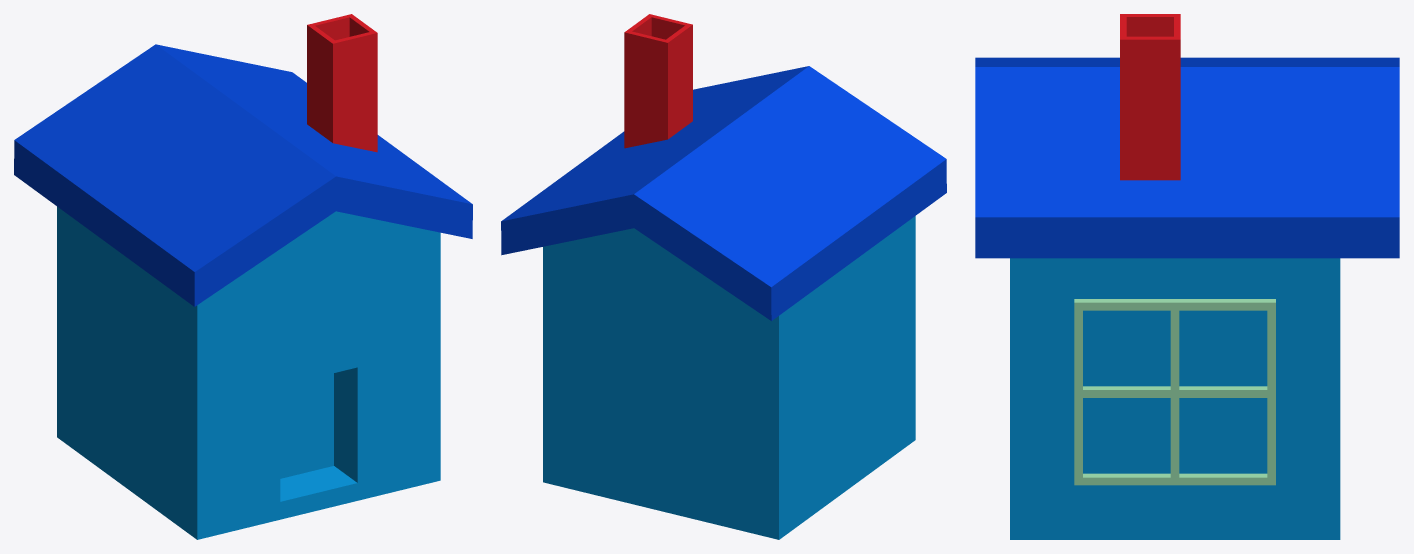
The model's file is New HOme.fbx.
The picture shows the model from 3 angles, left to right: view 1: azimuth 30°, elevation 25°; view 2: azimuth 150°, elevation 25°; view 3: azimuth 270°, elevation 25°; orthographic projection. The views are drawn at different scales.
Parts seen in each view (by area): view 1: Cube, Cube.001, Cube.004; view 2: Cube, Cube.001, Cube.004; view 3: Cube, Cube.001, Cube.003, Cube.004.
Boxes of the visible parts, x1,y1,x2,y2 form: Cube: [57, 206, 440, 539]; Cube.001: [14, 44, 472, 306]; Cube.004: [307, 14, 377, 152]; Cube: [543, 216, 915, 539]; Cube.001: [501, 66, 946, 320]; Cube.004: [624, 14, 692, 148]; Cube: [1010, 258, 1340, 539]; Cube.001: [975, 57, 1399, 258]; Cube.003: [1074, 299, 1275, 485]; Cube.004: [1120, 14, 1180, 180].
Bounding box in the file's own units: 229 × 328 × 257.
